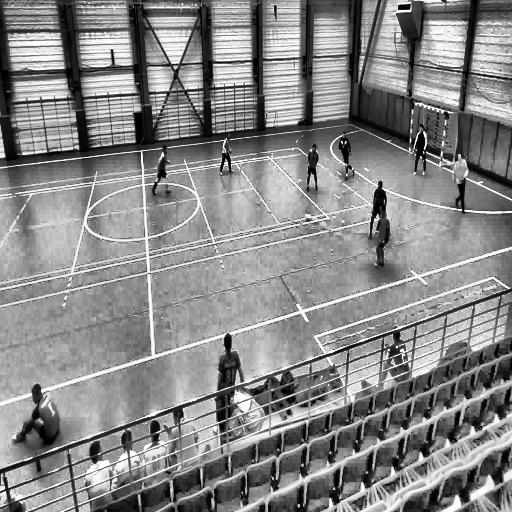ball: (305, 211, 312, 224)
player: (366, 180, 388, 242), (150, 144, 172, 198), (375, 201, 390, 269), (453, 150, 468, 214), (412, 125, 428, 177), (339, 132, 355, 182), (305, 142, 319, 194), (218, 133, 234, 174)
